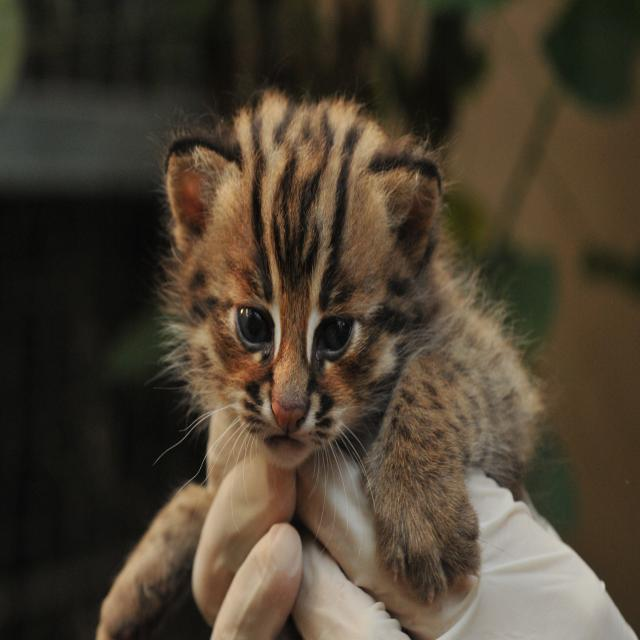leopard: (154, 96, 548, 593)
